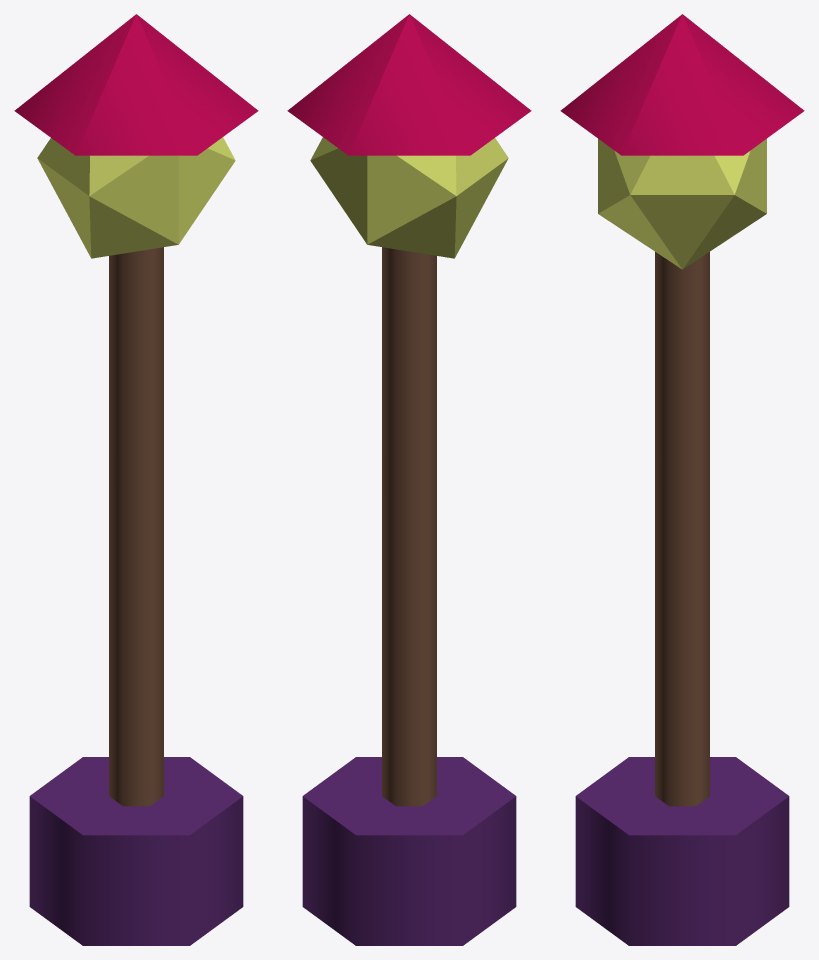
The model's file is signal-lamp.glb.
3 renders of one model, left to right at view 1: azimuth 30°, elevation 25°; view 2: azimuth 150°, elevation 25°; view 3: azimuth 270°, elevation 25°, orthographic.
Size of the model in its own units: 0.6928 by 3.22 by 0.8.
